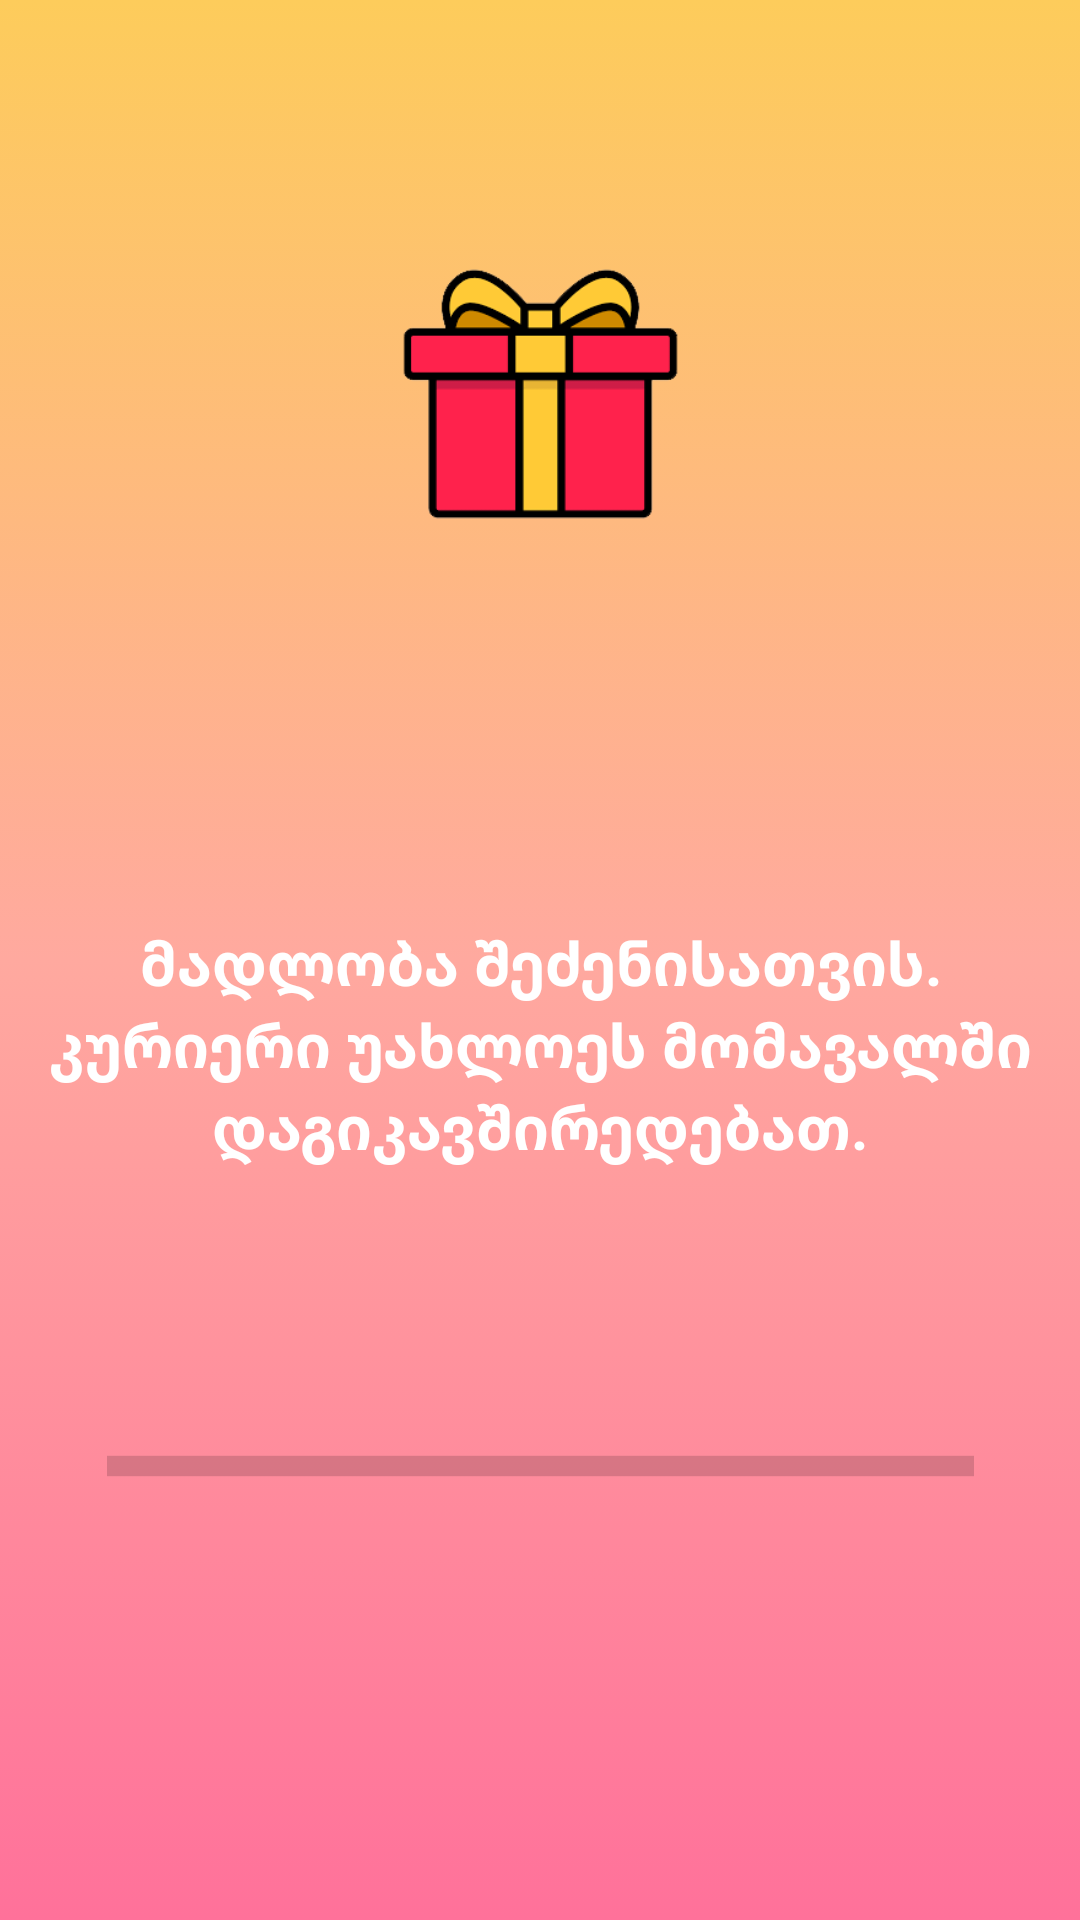

Point at icon controls on the screen. Image size 1080*1920, points as (x,y).
gift: (540,394)
